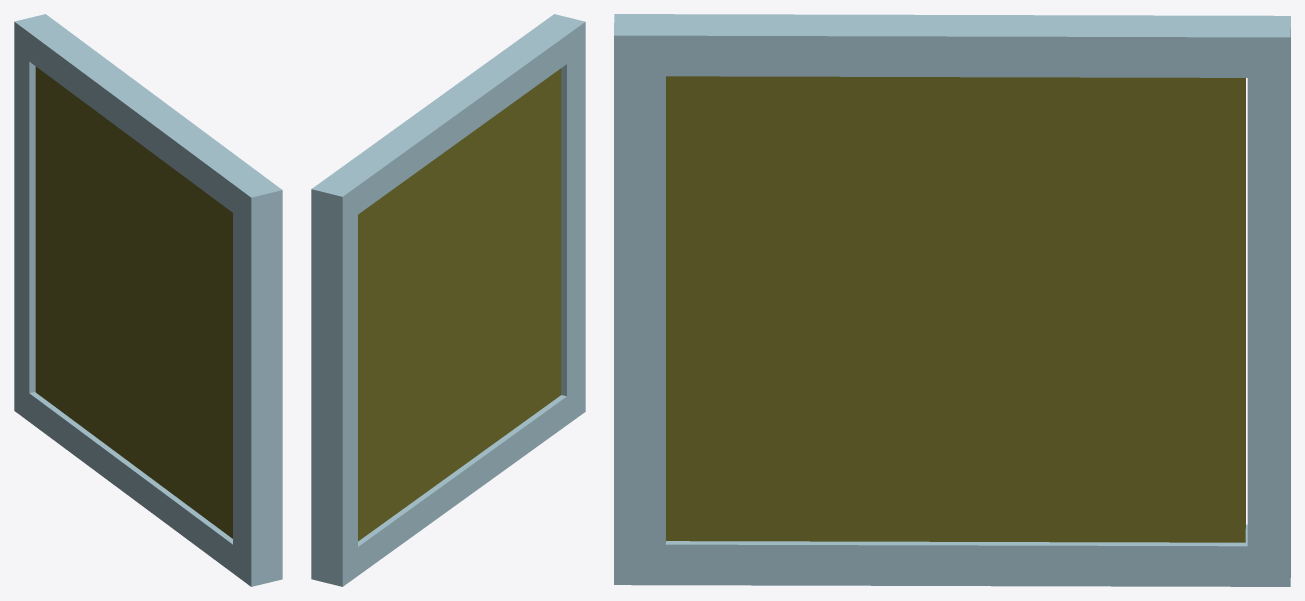
Rendered from Kitchen_2_Window.fbx.
The picture shows the model from 3 angles, left to right: view 1: azimuth 30°, elevation 25°; view 2: azimuth 150°, elevation 25°; view 3: azimuth 270°, elevation 25°; orthographic projection. The views are drawn at different scales.
Visible parts, largest first — view 1: Kitchen_2_Window; view 2: Kitchen_2_Window; view 3: Kitchen_2_Window.
Part boxes in pixels (left/top/right/bottom): Kitchen_2_Window: left=14, top=14, right=282, bottom=586; Kitchen_2_Window: left=311, top=14, right=585, bottom=586; Kitchen_2_Window: left=614, top=14, right=1290, bottom=586.
Size of the model in its own units: 14.93 by 163 by 182.
